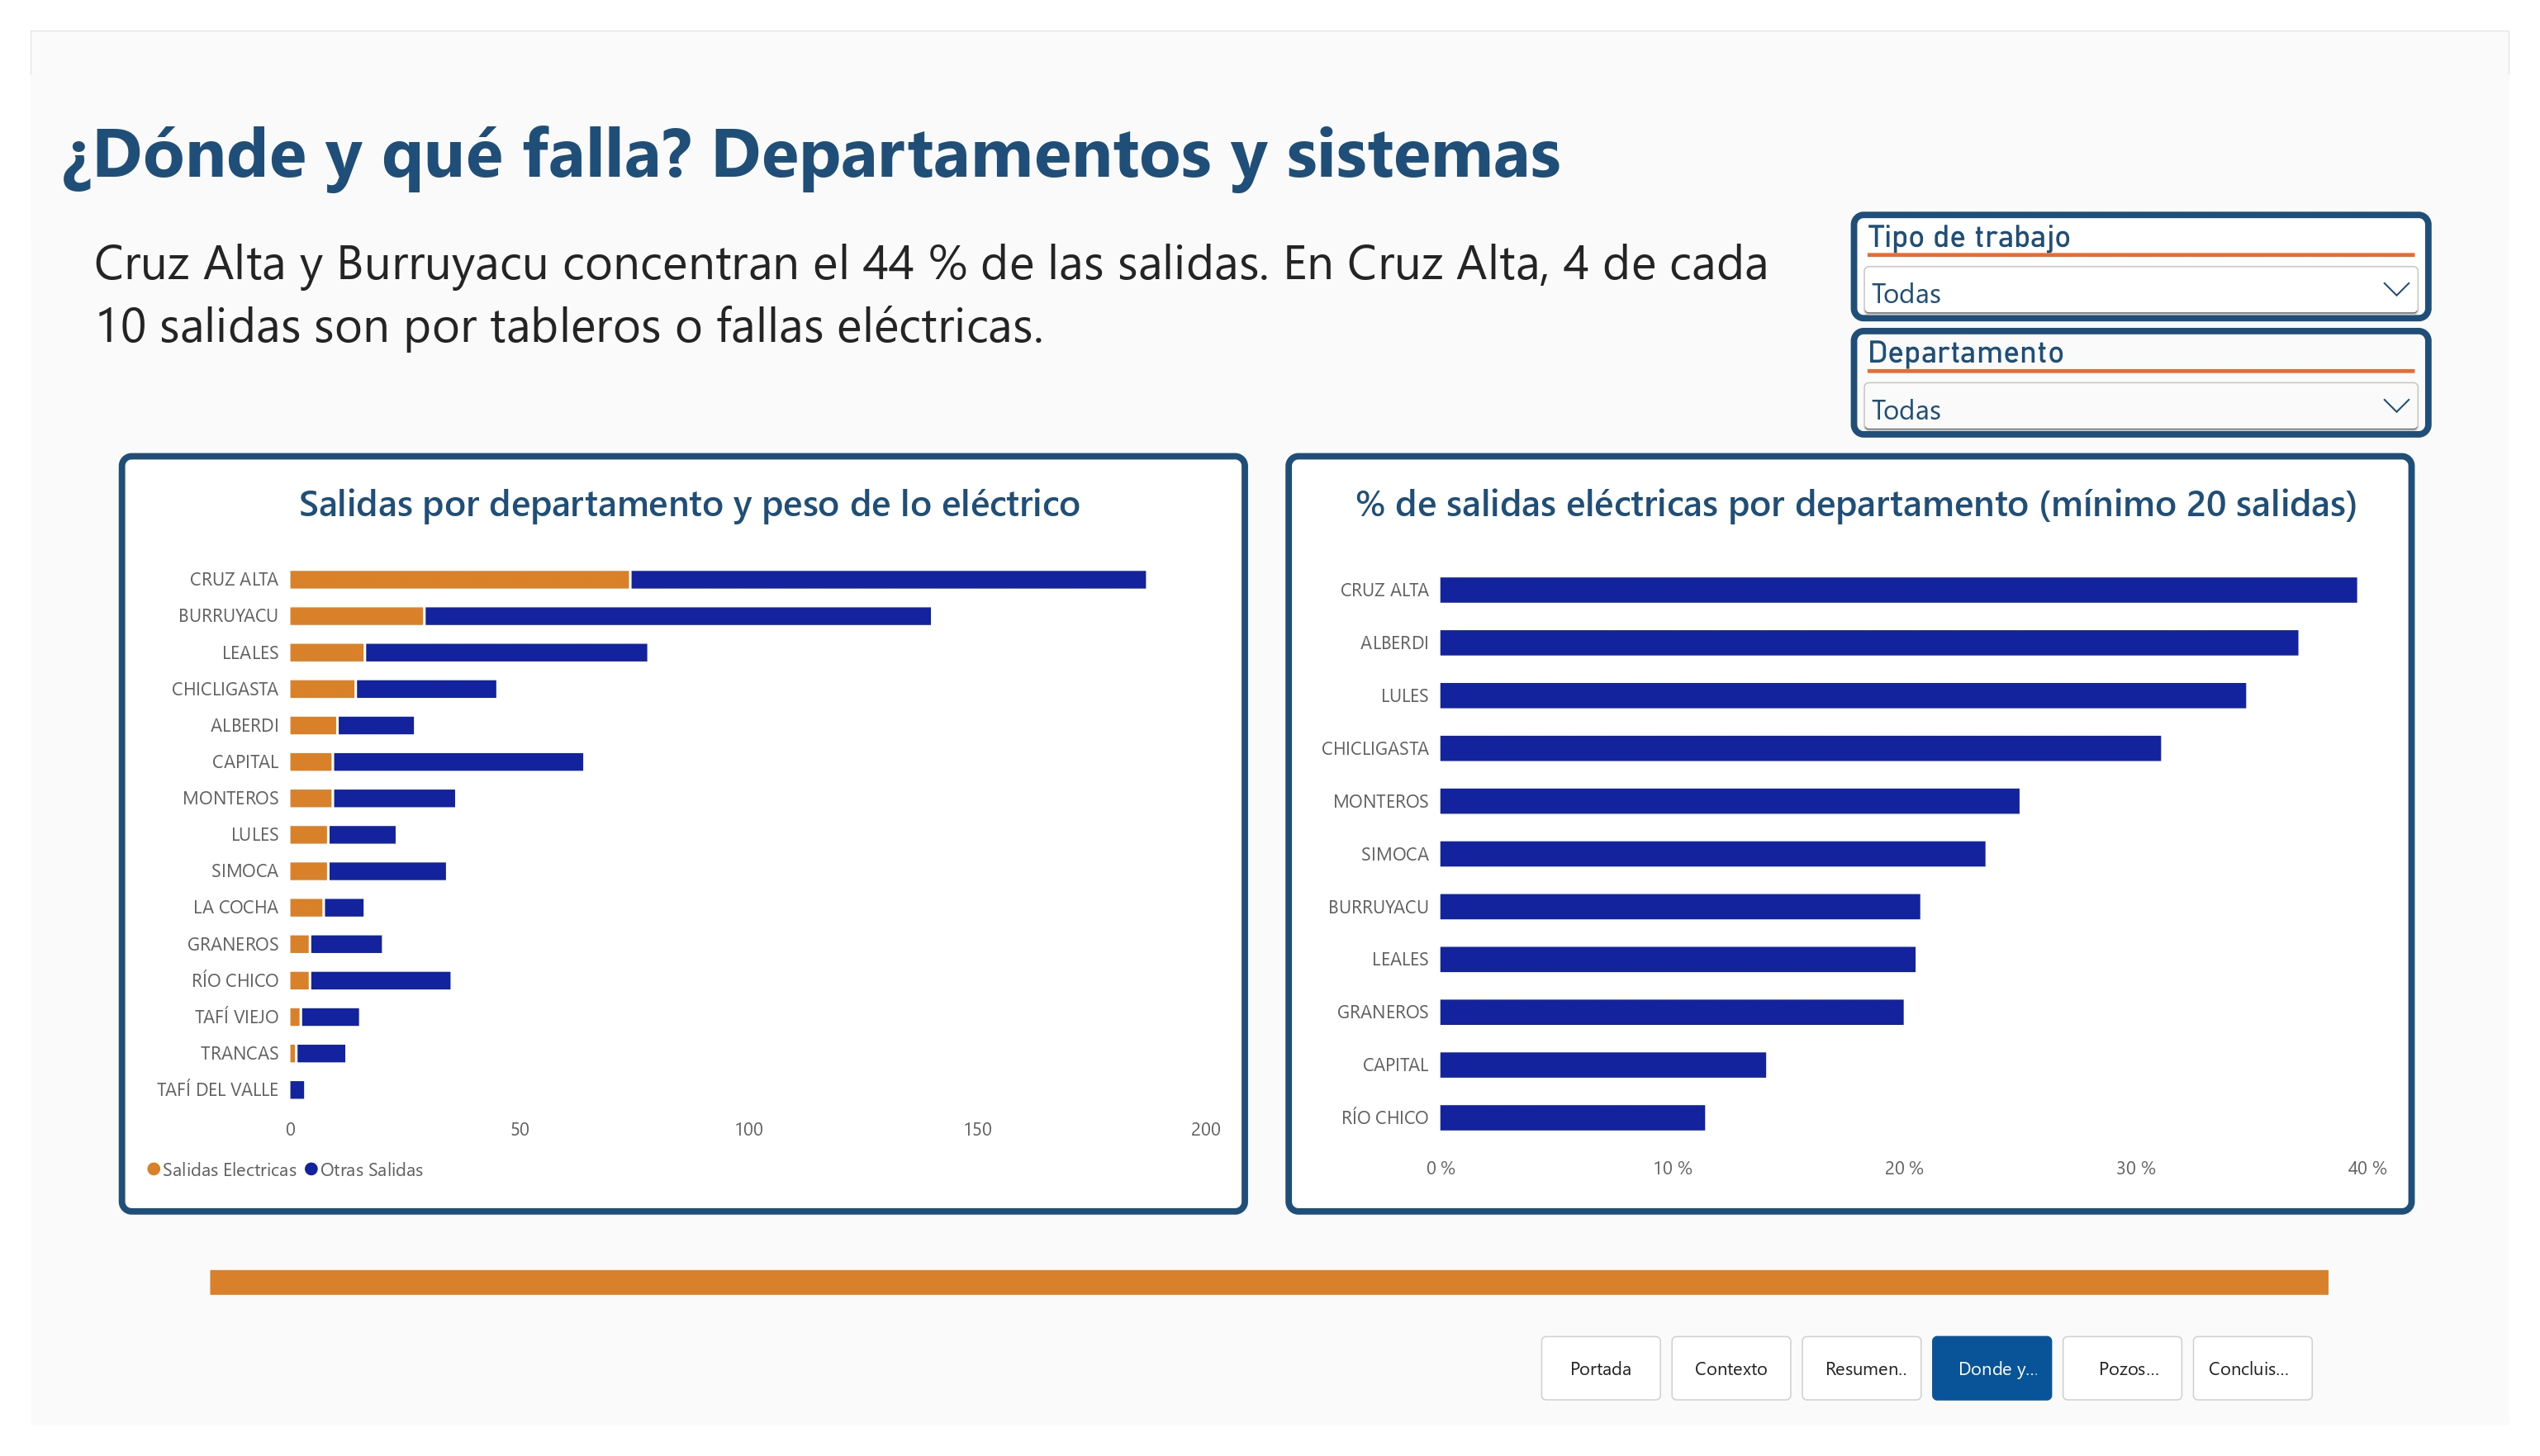

What the dashboard file says about the page in this screenshot:
{"tool":"powerbi","page":{"name":"Donde y que falla","canvas":[1920,1080],"ordinal":3},"visuals":[{"type":"textbox","box":[23.5,54.9,1873.3,85],"z":0},{"type":"slicer","fields":{"Values":["Salidas.departamento"]},"box":[1410,230,450,85],"z":1000},{"type":"slicer","fields":{"Values":["Salidas.tipo_trabajo"]},"box":[1410,140,450,85],"z":2000},{"type":"shape","box":[138.6,960,1641.3,19],"z":3000},{"type":"pageNavigator","box":[1170.1,1011.1,600,50],"z":4000},{"type":"barChart","title":"Salidas por departamento y peso de lo eléctrico","fields":{"Category":["Salidas.departamento"],"Y":["Salidas.Salidas Electricas","Salidas.Otras Salidas"]},"box":[68,327,875,590],"z":5000},{"type":"barChart","title":"% de salidas eléctricas por departamento (mínimo 20 salidas)","fields":{"Category":["Salidas.departamento"],"Y":["Salidas.% Electricas"]},"box":[972,327.5,875,590],"z":6000},{"type":"textbox","box":[48.9,152.3,1322.2,139.4],"z":7000}]}

Visuals, with their boxes on the page's 1920x1080 design canvas (x1, y1, x2, y2). These are canvas units, not pixel positions in the 2540x1456 screenshot, which may show the page scaled, cropped or inside an application window:
textbox: {"x1": 24, "y1": 55, "x2": 1897, "y2": 140}
slicer - Salidas.departamento: {"x1": 1410, "y1": 230, "x2": 1860, "y2": 315}
slicer - Salidas.tipo_trabajo: {"x1": 1410, "y1": 140, "x2": 1860, "y2": 225}
shape: {"x1": 139, "y1": 960, "x2": 1780, "y2": 979}
pageNavigator: {"x1": 1170, "y1": 1011, "x2": 1770, "y2": 1061}
"Salidas por departamento y peso de lo eléctrico" barChart: {"x1": 68, "y1": 327, "x2": 943, "y2": 917}
"% de salidas eléctricas por departamento (mínimo 20 salidas)" barChart: {"x1": 972, "y1": 328, "x2": 1847, "y2": 918}
textbox: {"x1": 49, "y1": 152, "x2": 1371, "y2": 292}
